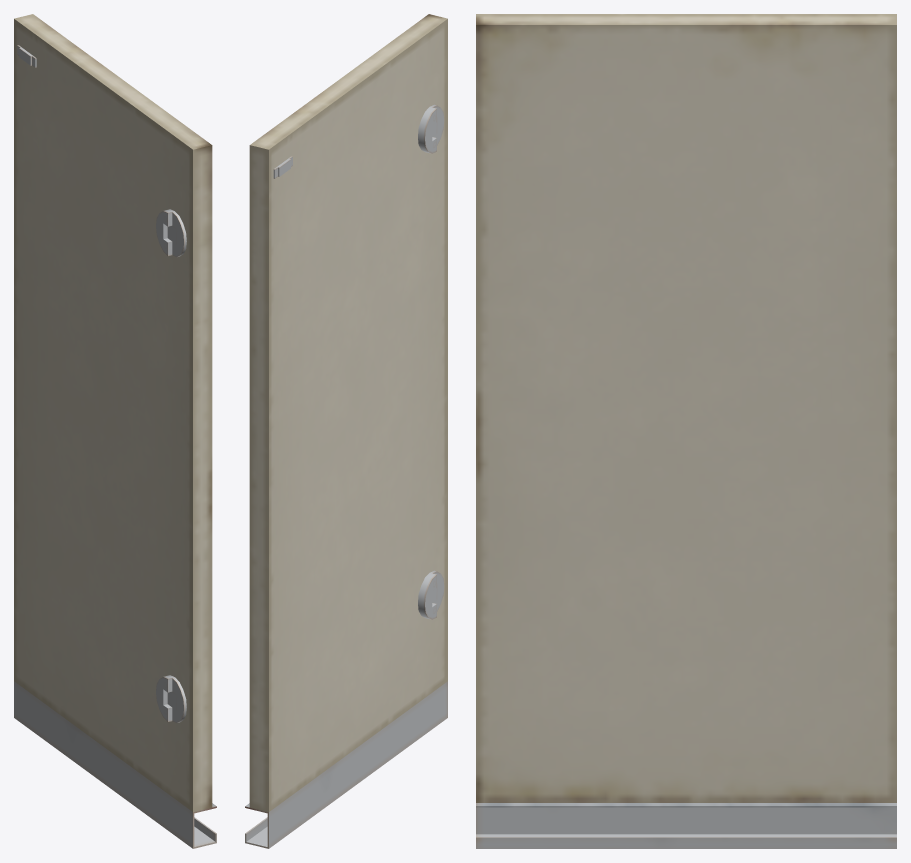
File: FurnitureKicthen02_DoorUpLeft01.FBX
3 renders of one model, left to right at view 1: azimuth 30°, elevation 25°; view 2: azimuth 150°, elevation 25°; view 3: azimuth 270°, elevation 25°, orthographic. The views are drawn at different scales.
Visible parts, largest first — view 1: FurnitureKicthen02_DoorUpLeft01; view 2: FurnitureKicthen02_DoorUpLeft01; view 3: FurnitureKicthen02_DoorUpLeft01.
Part boxes in pixels (x1,y1,x2,y2): FurnitureKicthen02_DoorUpLeft01: [14, 14, 216, 848]; FurnitureKicthen02_DoorUpLeft01: [245, 14, 447, 848]; FurnitureKicthen02_DoorUpLeft01: [476, 14, 896, 848].
Bounding box in the file's own units: 3.24 × 32.5 × 70.
